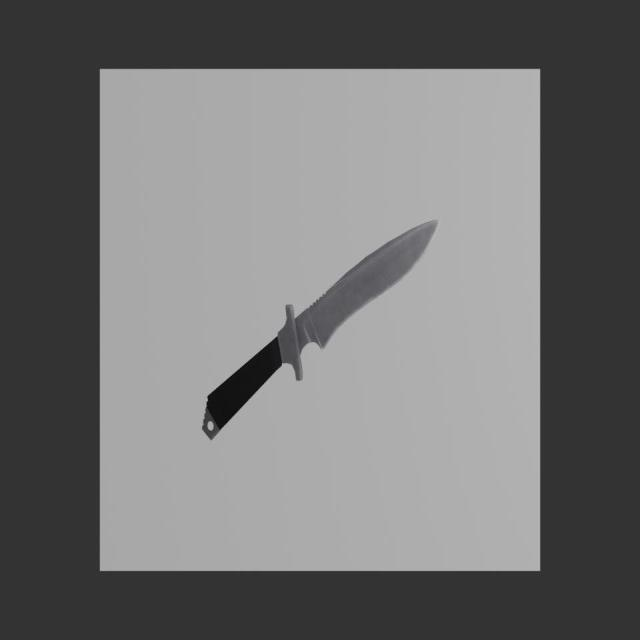knife: (202, 336, 282, 441)
